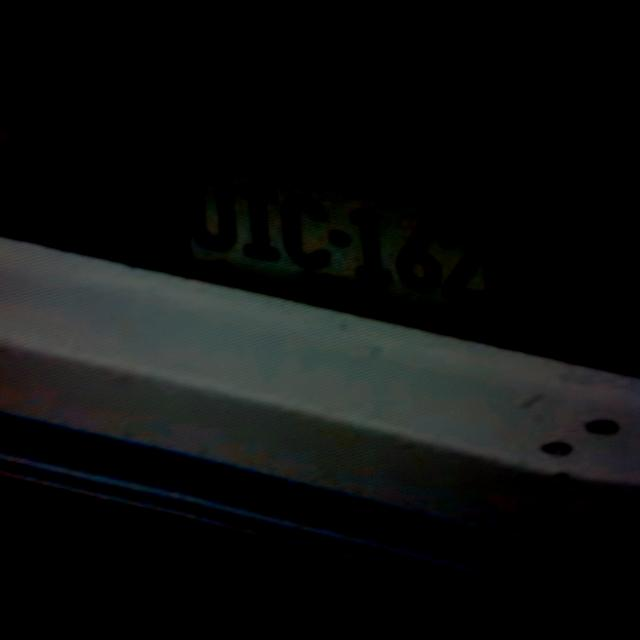placa: (168, 132, 509, 349)
